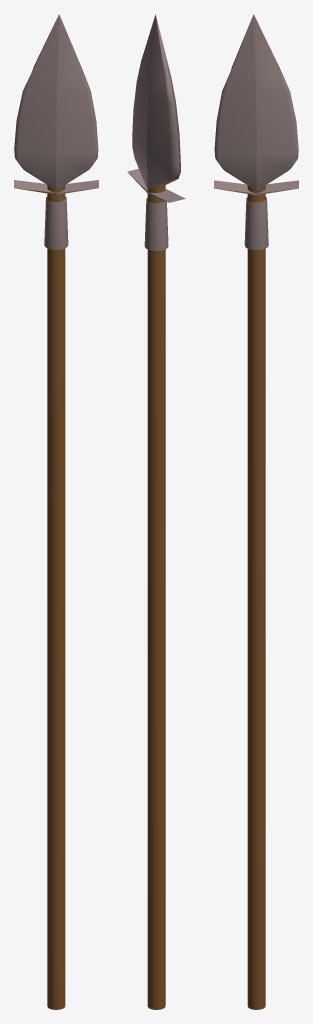
The model's file is Lança.fbx.
The picture shows the model from 3 angles, left to right: view 1: azimuth 90°, elevation 25°; view 2: azimuth 210°, elevation 25°; view 3: azimuth 270°, elevation 25°; orthographic projection.
Visible parts, largest first — view 1: Cube.018; view 2: Cube.018; view 3: Cube.018.
Part boxes in pixels (left/top/right/bottom): Cube.018: left=14, top=14, right=98, bottom=1009; Cube.018: left=127, top=14, right=185, bottom=1009; Cube.018: left=214, top=14, right=298, bottom=1009.
Size of the model in its own units: 3.89 by 177 by 13.71.
